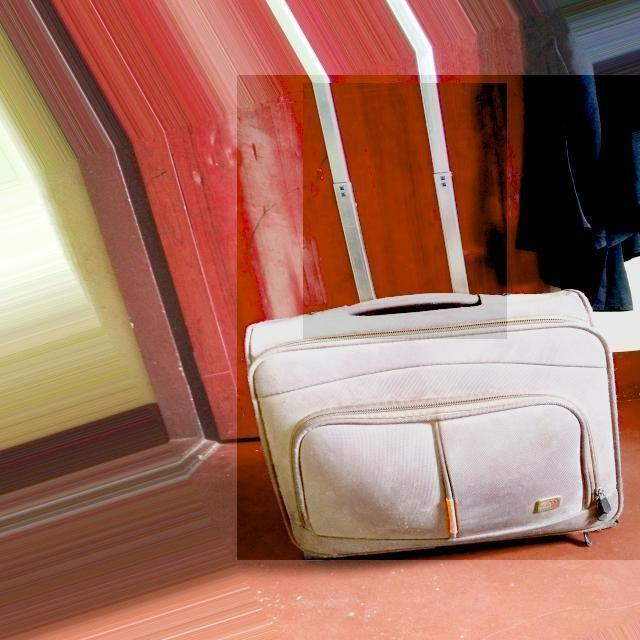Suitcase: (236, 77, 629, 567)
